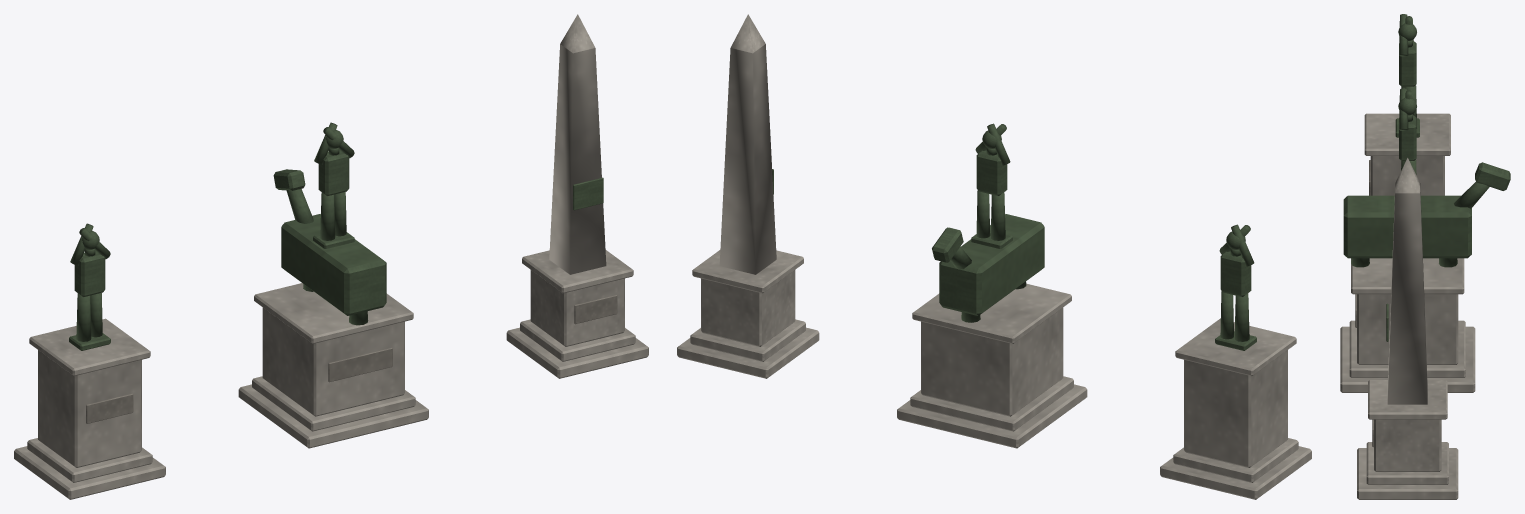
Rendered from statue.glb.
The picture shows the model from 3 angles, left to right: view 1: azimuth 30°, elevation 25°; view 2: azimuth 150°, elevation 25°; view 3: azimuth 270°, elevation 25°; orthographic projection. The views are drawn at different scales.
Parts seen in each view (by area): view 1: statue_v2, statue_v3, statue_v1; view 2: statue_v2, statue_v3, statue_v1; view 3: statue_v2, statue_v3, statue_v1.
Boxes of the visible parts, x1,y1,x2,y2 form: statue_v2: [238, 122, 428, 448]; statue_v3: [506, 14, 648, 378]; statue_v1: [14, 223, 165, 499]; statue_v2: [897, 123, 1087, 448]; statue_v3: [677, 14, 819, 378]; statue_v1: [1160, 224, 1311, 499]; statue_v2: [1340, 88, 1510, 392]; statue_v3: [1357, 158, 1458, 499]; statue_v1: [1364, 14, 1450, 195].
Bounding box in the file's own units: 9.55 × 5.26 × 2.53.
Materials: 2 (2 with a texture image).
